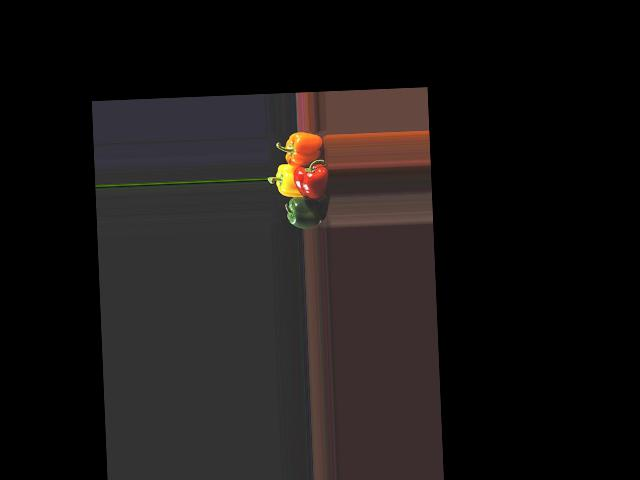bell_pepper: (279, 130, 329, 167)
